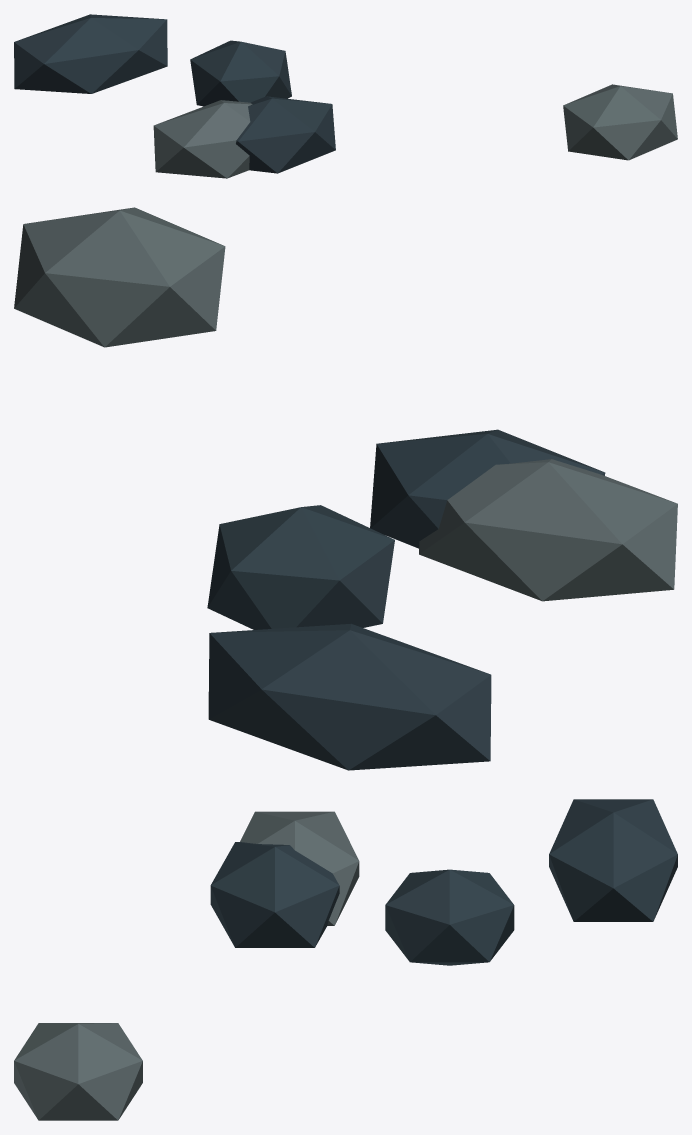
The model's file is Pebbles.fbx.
3 views of the same model, one above another, from view 1: azimuth 30°, elevation 25°; view 2: azimuth 150°, elevation 25°; view 3: azimuth 270°, elevation 25° (orthographic). The views are drawn at different scales.
Parts seen in each view (by area): view 1: Pebbles_Mesh; view 2: Pebbles_Mesh; view 3: Pebbles_Mesh.
Part boxes in pixels (bbox=[...]): Pebbles_Mesh: bbox=[14, 14, 677, 178]; Pebbles_Mesh: bbox=[14, 207, 677, 770]; Pebbles_Mesh: bbox=[14, 799, 677, 1120].
Bounding box in the file's own units: 0.4595 × 0.07 × 0.438.
